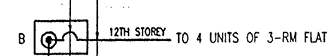Single Phase Tap-Off Unit: (28, 18, 92, 56)
